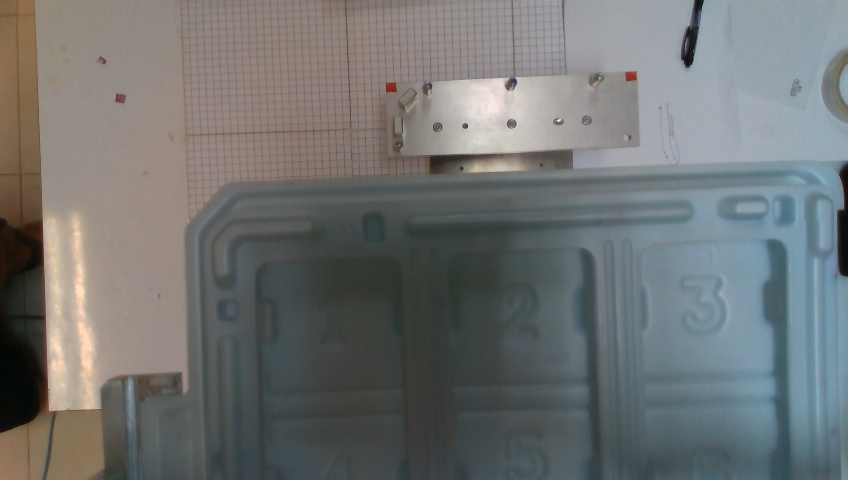red: (625, 71, 637, 82), (386, 83, 397, 92)
